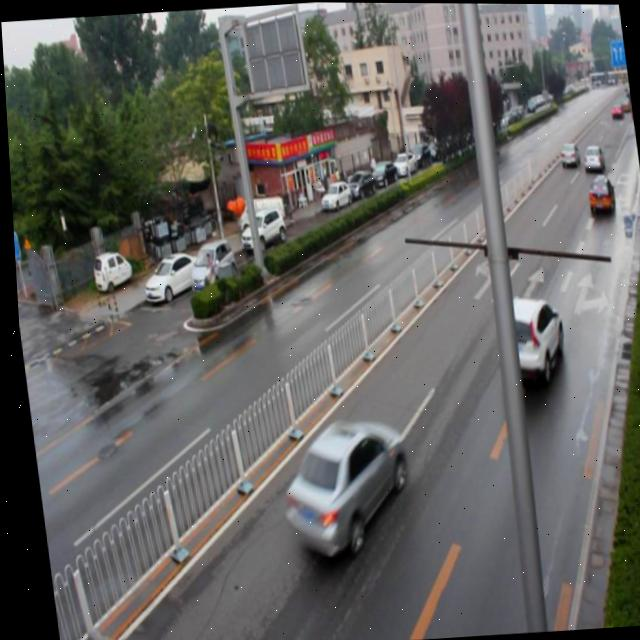car: (269, 414, 411, 561), (485, 293, 564, 386), (581, 171, 612, 215), (554, 142, 576, 169), (580, 143, 600, 168)
